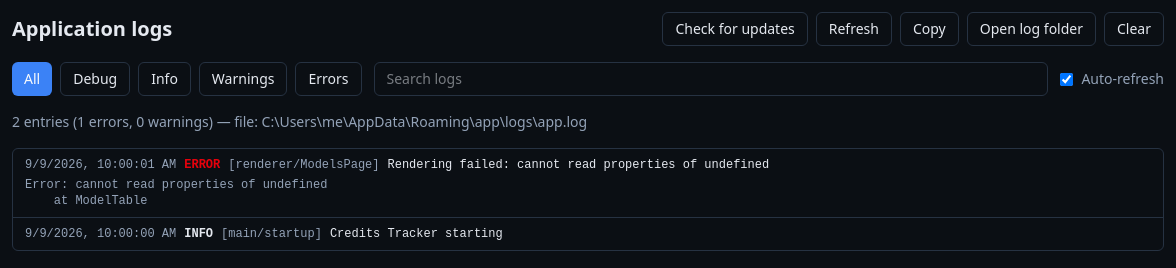
it: LogsPage › filters by minimum level
The width and height of the screenshot is (1176, 268).
Expected: the text "Credits Tracker starting" is shown, [330, 226, 503, 242]
Click the button "Errors" at [328, 79], box [296, 62, 362, 96]
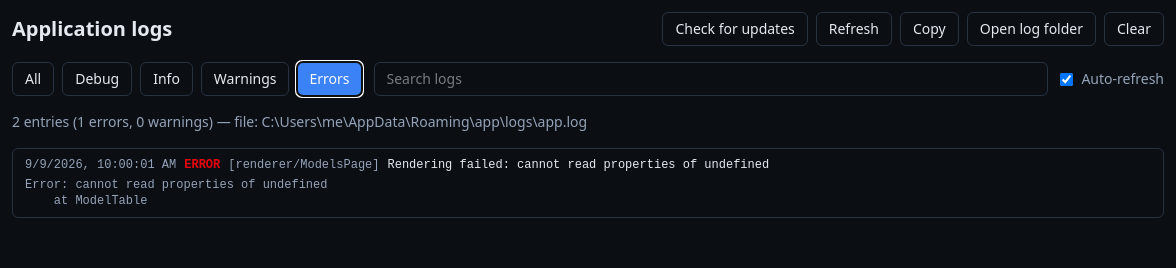
Expected: the text "Rendering failed: cannot read properties of undefined" is shown, [388, 157, 769, 173]
Expected: the text "Credits Tracker starting" is gone
